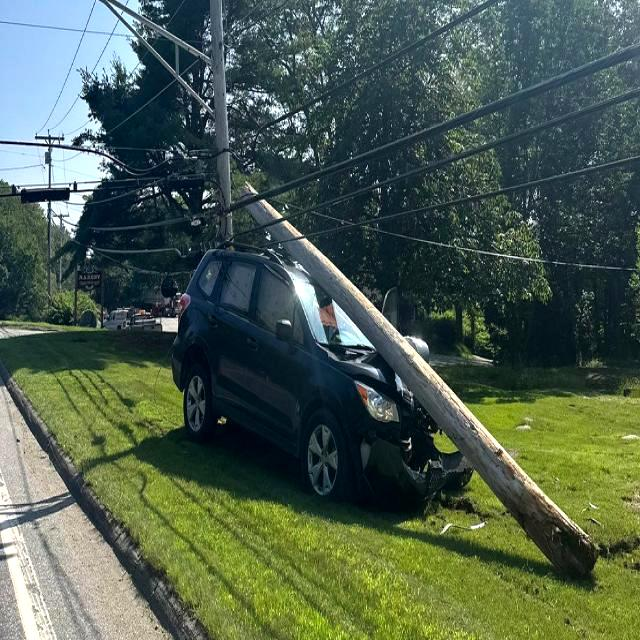Broken Pole: (233, 170, 603, 578), (205, 0, 235, 245)
